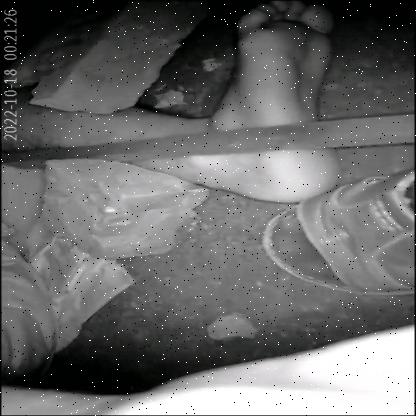leg: (0, 0, 362, 206)
